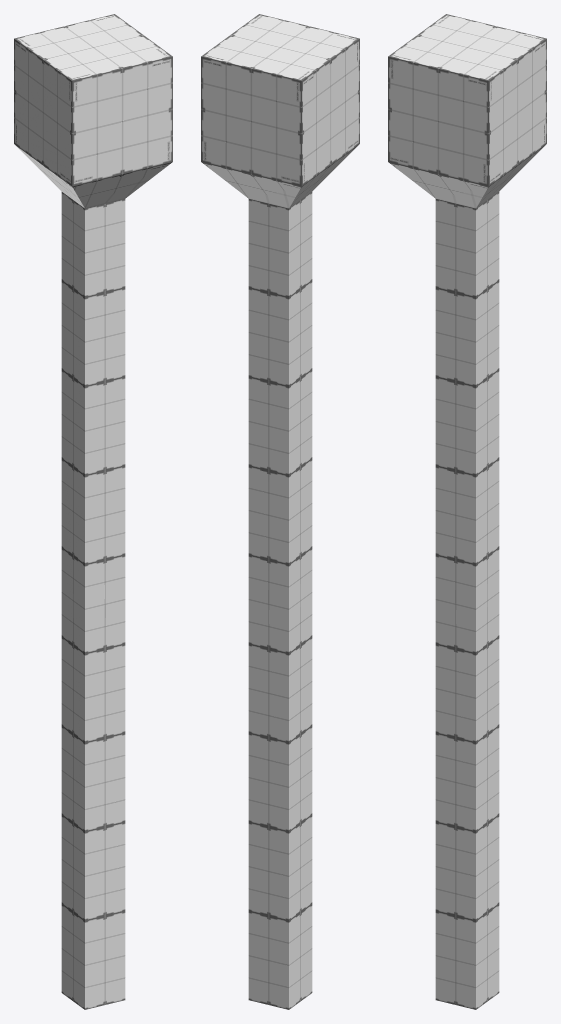
The model's file is Pole.fbx.
3 renders of one model, left to right at view 1: azimuth 30°, elevation 25°; view 2: azimuth 150°, elevation 25°; view 3: azimuth 330°, elevation 25°, orthographic.
Visible parts, largest first — view 1: Cube.002; view 2: Cube.002; view 3: Cube.002.
Boxes of the visible parts, x1,y1,x2,y2 form: Cube.002: (14, 14, 172, 1009); Cube.002: (201, 14, 359, 1009); Cube.002: (388, 14, 546, 1009).
Bounding box in the file's own units: 125 × 1125 × 125.
Materials: 1 (1 with a texture image).
